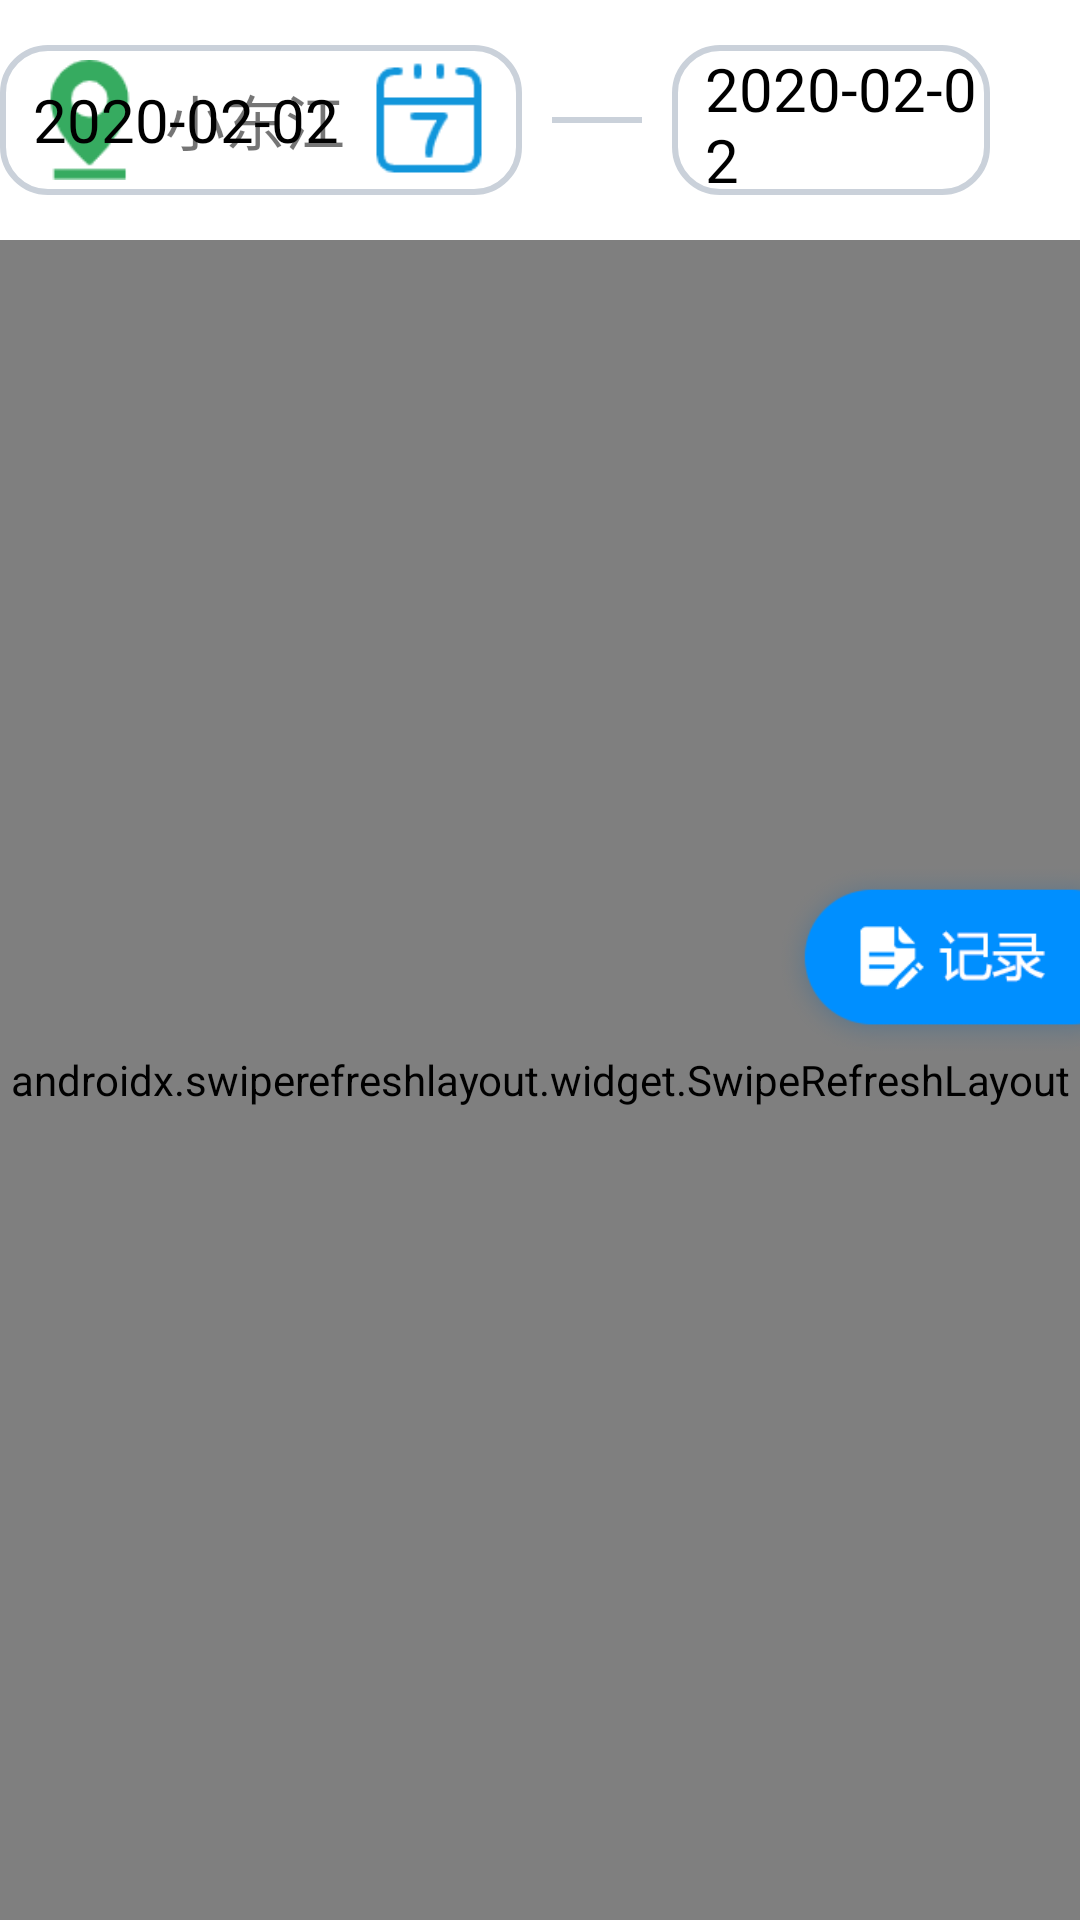

Screen size 1080px x 1920px. Icon name, then its box in pixels as bbox=[x1, y1, x2, y2]:
calendar: bbox=[376, 63, 482, 173]
